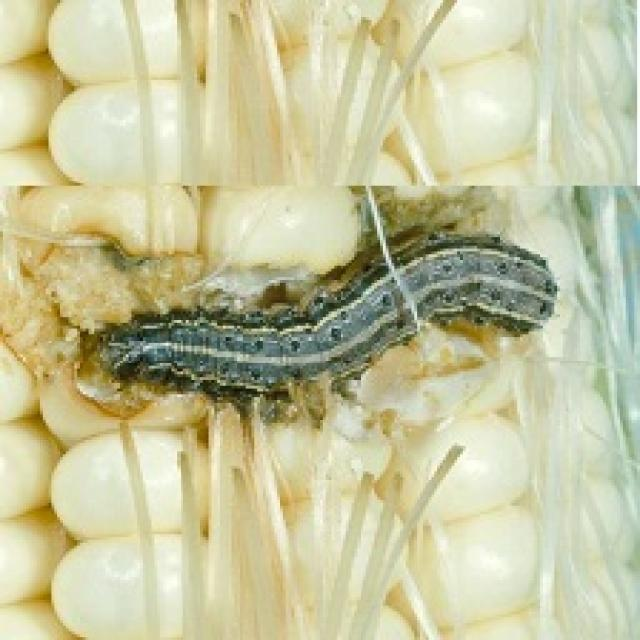worm: (95, 218, 558, 401)
